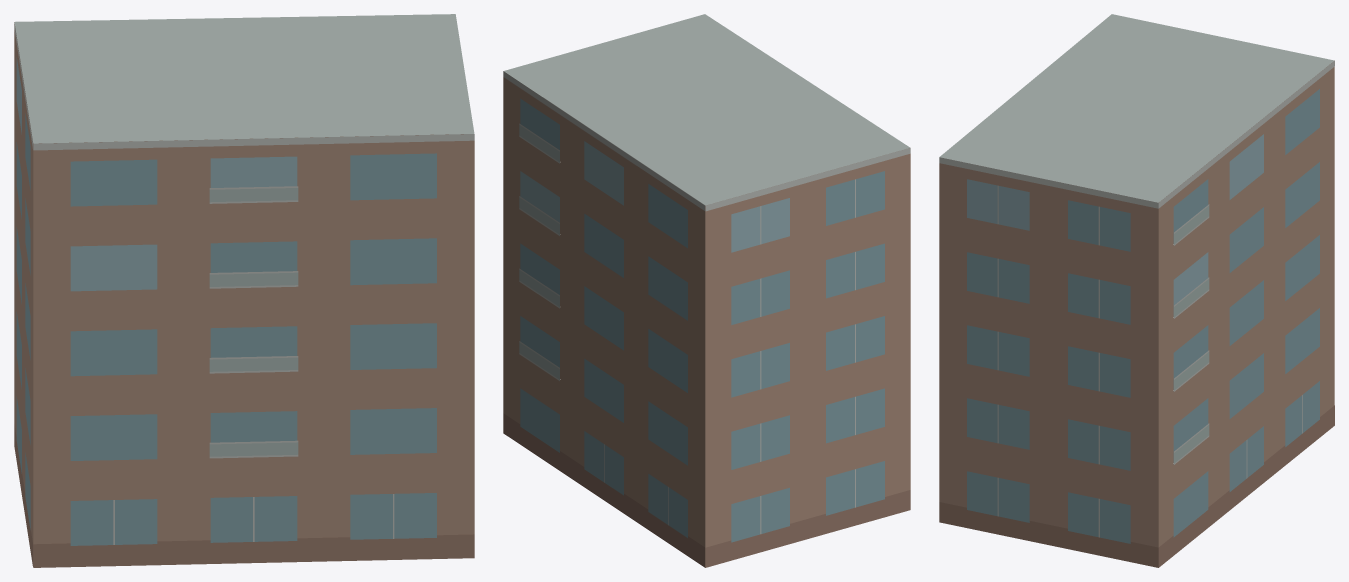
Rendered from survey-upis-32884370.glb.
3 views of the same model, side by side, from view 1: azimuth 30°, elevation 25°; view 2: azimuth 150°, elevation 25°; view 3: azimuth 270°, elevation 25° (orthographic). The views are drawn at different scales.
Parts seen in each view (by area): view 1: survey-upis-32884370.tmp; view 2: survey-upis-32884370.tmp; view 3: survey-upis-32884370.tmp.
Boxes of the visible parts, x1,y1,x2,y2 form: survey-upis-32884370.tmp: [14, 14, 474, 567]; survey-upis-32884370.tmp: [503, 14, 910, 567]; survey-upis-32884370.tmp: [939, 14, 1334, 567].
Bounding box in the file's own units: 16.64 × 15 × 14.73.
